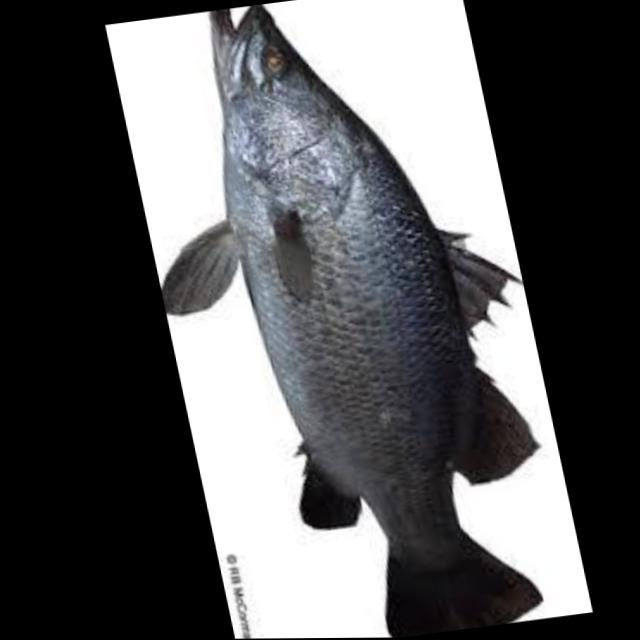Seabass: (102, 0, 594, 639)
